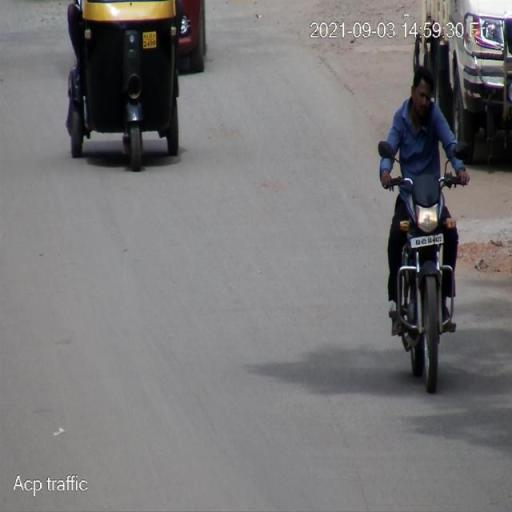using mobile: (409, 91, 441, 133)
